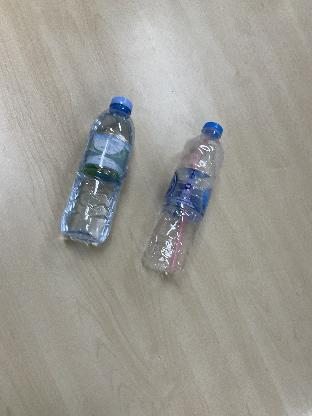Plastic Bottle: (142, 120, 224, 282), (60, 95, 136, 248)
